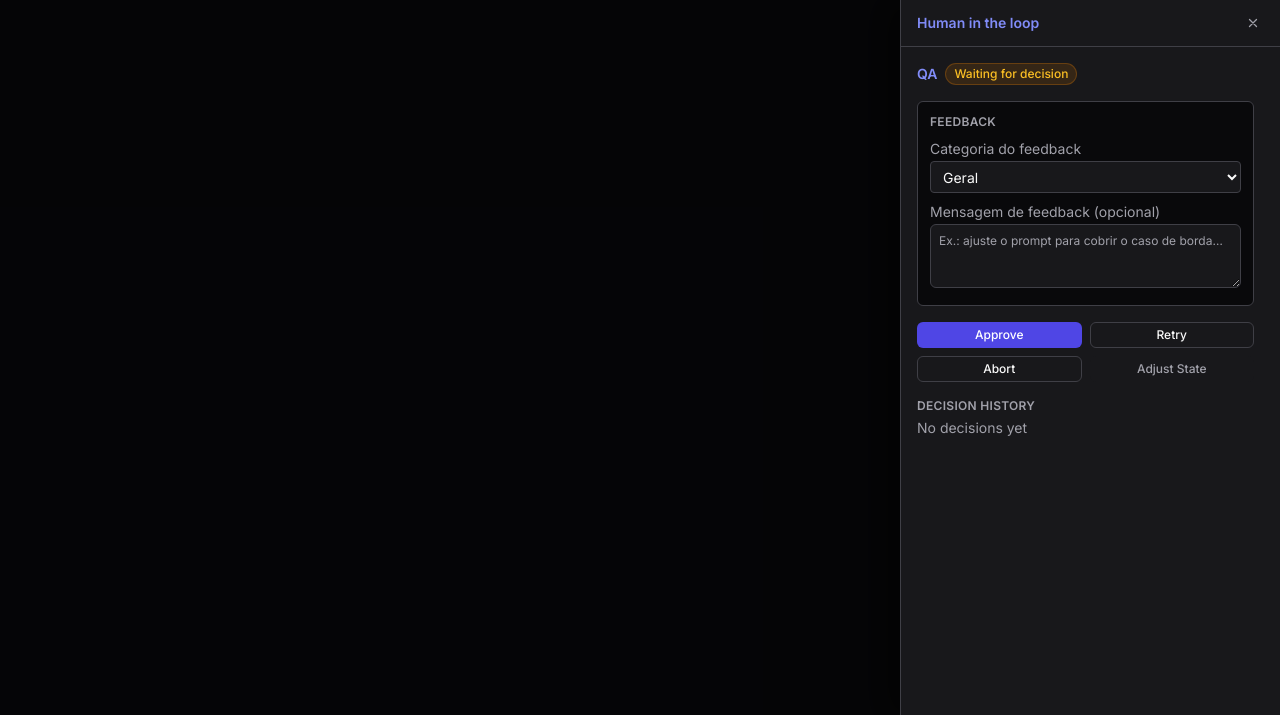
adjust state with no edited fields shows error before sending
Click the button "Adjust State" at [1172, 369], box x1=1090 y1=356 x2=1254 y2=382
(page scrolled)
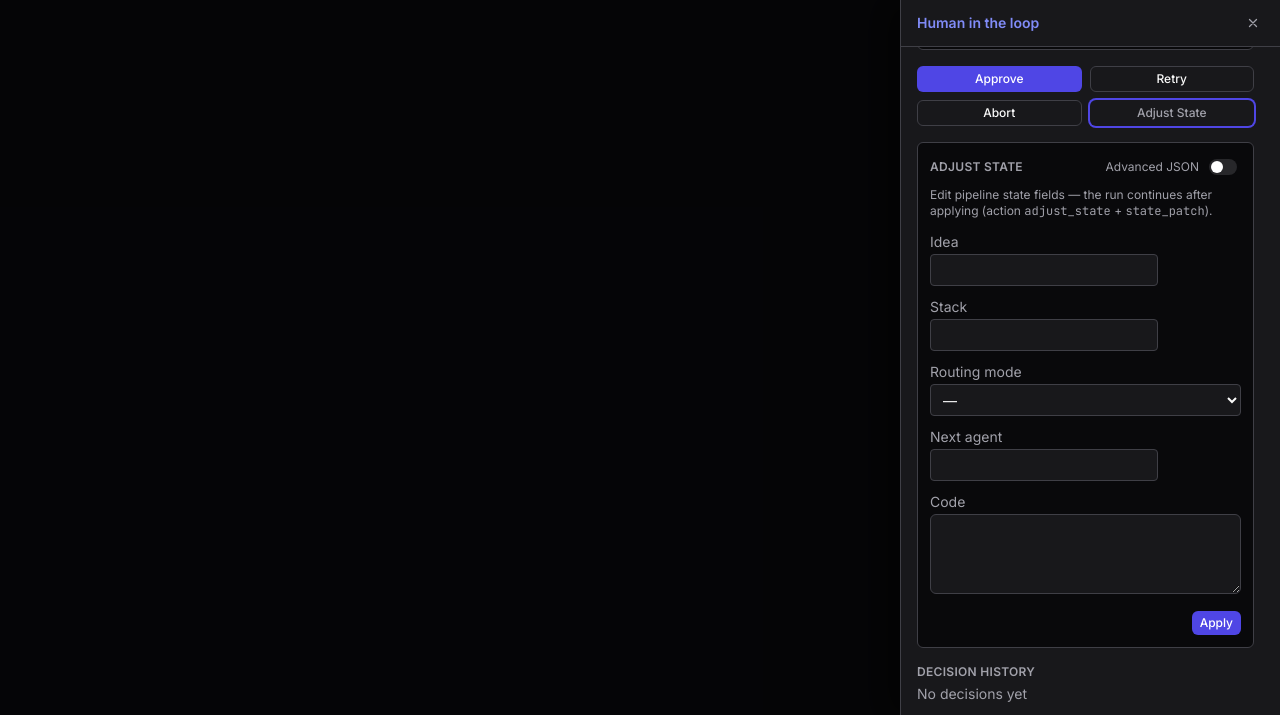
Click the button "Apply" at [1216, 623], box x1=1192 y1=611 x2=1241 y2=635
(page scrolled)
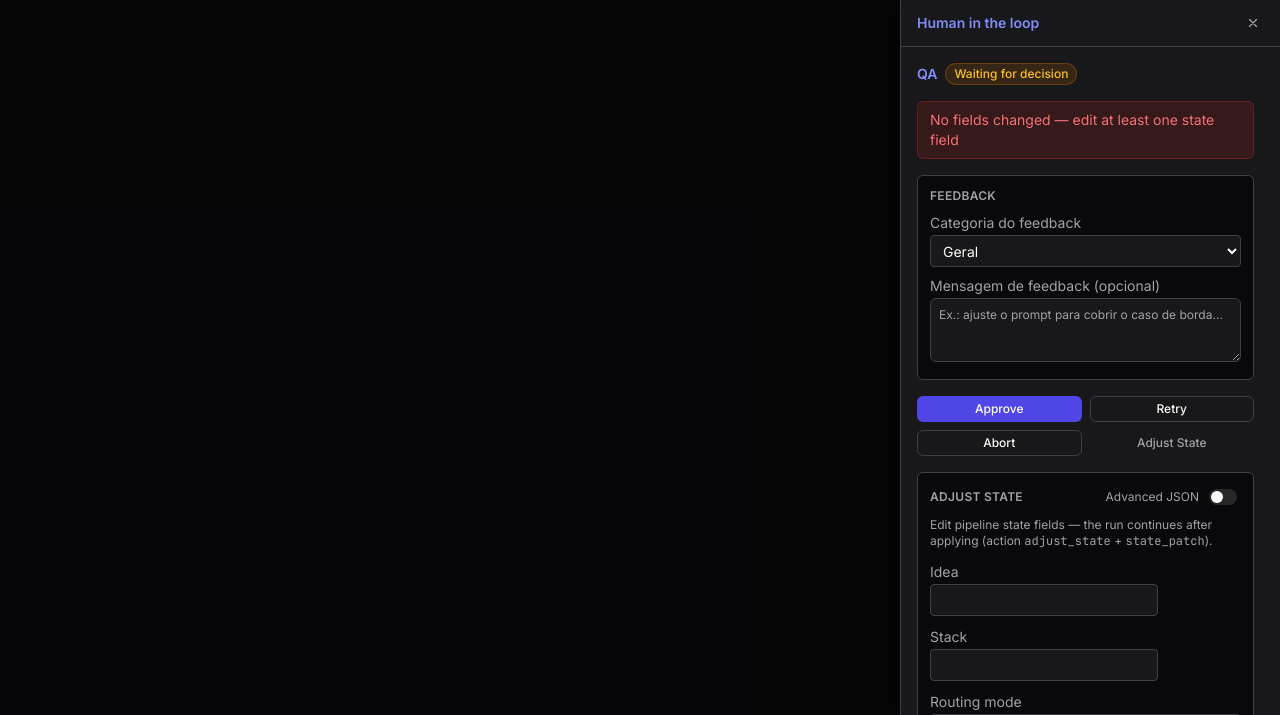
Result: the message shows "No fields changed" at x1=930 y1=111 x2=1214 y2=148
